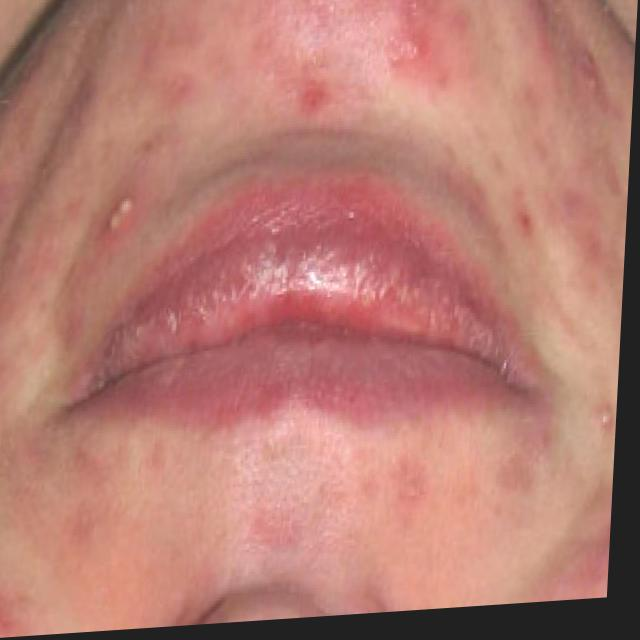blackheads: (107, 193, 143, 234), (302, 87, 331, 131), (403, 36, 434, 68), (75, 514, 104, 547), (579, 68, 606, 103), (516, 210, 540, 247)
